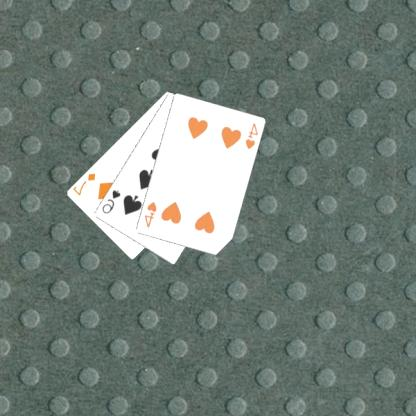4H: (244, 120, 261, 151), (143, 199, 160, 229)
7D: (72, 170, 98, 197)
9S: (101, 187, 124, 215)
